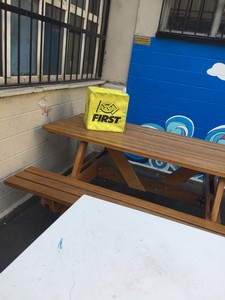cube: (83, 86, 127, 135)
